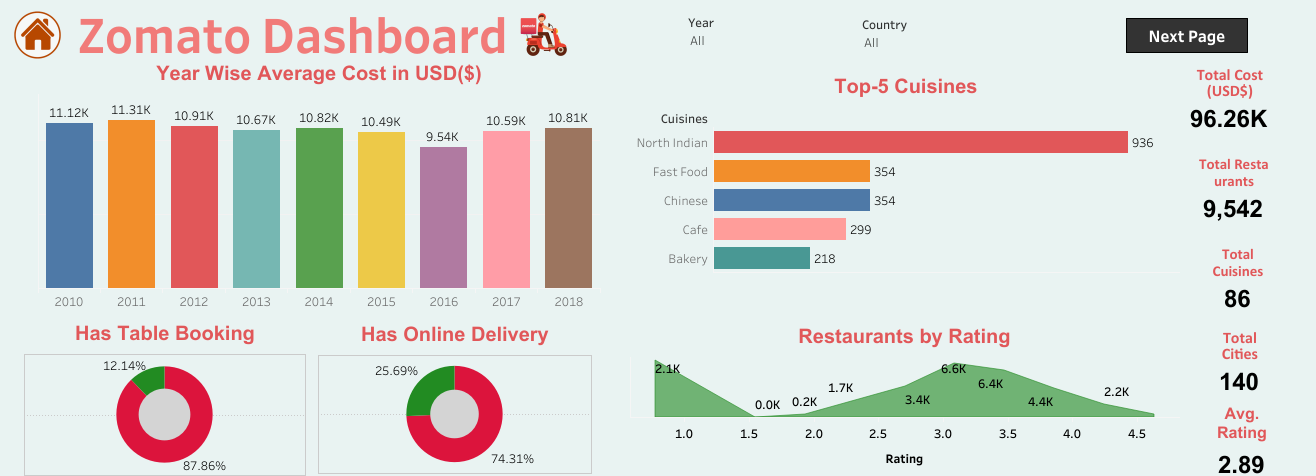

What the dashboard file says about the page in this screenshot:
{"tool":"tableau","page":{"name":"Page-1","canvas":[1000,1000],"units":"permille","ordinal":0},"visuals":[{"type":"image","param":"Image/z1-1030x515.png","box":[392.6,18.9,54.7,104.8]},{"type":"text","box":[56.9,23.1,385.8,92.2]},{"type":"filter","title":"Top-5 Cuisines","param":"[federated.0cjsnxm09vux1e0zomzkz04igkv3].[yr:Date (Main.csv):ok]","box":[522.3,25.2,104.1,111.1]},{"type":"filter","title":"Top-5 Cuisines","param":"[federated.0cjsnxm09vux1e0zomzkz04igkv3].[none:Countryname:nk]","box":[654.4,29.4,140,104.8]},{"type":"dashboard-object","box":[855,37.7,92.6,73.4]},{"type":"worksheet","title":"Avg. Cost","mark":"Bar","rows":["USD($)"],"cols":["Date (Main.csv)"],"box":[28.9,115.3,426.9,534.6]},{"type":"worksheet","title":"Total Cost","mark":"Automatic","box":[895.9,121.6,102.4,171.9]},{"type":"worksheet","title":"Top-5 Cuisines","mark":"Automatic","rows":["Cuisines"],"cols":["RestaurantID"],"box":[480.3,142.6,414.7,501.1]},{"type":"worksheet","title":"Total Restaurants","mark":"Automatic","box":[906.4,310.3,97.1,171.9]},{"type":"worksheet","title":"Total Cuisines","mark":"Automatic","box":[916.9,498.9,67.4,167.7]},{"type":"worksheet","title":"Has Table Booking","mark":"Pie","rows":["Calculation_2030067962353348678","Calculation_2030067962353348678"],"box":[18.4,660.4,214.3,337.5]},{"type":"worksheet","title":"Has Online Delivery","mark":"Pie","rows":["Calculation_2030067962353348678","Calculation_2030067962353348678"],"box":[241.5,662.5,208.2,331.2]},{"type":"worksheet","title":"Restaurants by Rating","mark":"Area","rows":["Rating"],"cols":["Rating (bin)"],"box":[478.6,666.7,416.4,327]},{"type":"worksheet","title":"Total Cities","mark":"Automatic","box":[918.6,673,77.9,176.1]}]}

Visuals, with their boxes on the dashboard's canvas, which has no fixed pixel size, in thousandths of its width and height (x1, y1, x2, y2). These are canvas units, not pixel positions in the 1316x476 screenshot, which may show the page scaled, cropped or inside an application window:
image: Rect(393, 19, 447, 124)
text: Rect(57, 23, 443, 115)
"Top-5 Cuisines" filter: Rect(522, 25, 626, 136)
"Top-5 Cuisines" filter: Rect(654, 29, 794, 134)
dashboard-object: Rect(855, 38, 948, 111)
"Avg. Cost" worksheet (Bar marks): Rect(29, 115, 456, 650)
"Total Cost" worksheet: Rect(896, 122, 998, 294)
"Top-5 Cuisines" worksheet: Rect(480, 143, 895, 644)
"Total Restaurants" worksheet: Rect(906, 310, 1004, 482)
"Total Cuisines" worksheet: Rect(917, 499, 984, 667)
"Has Table Booking" worksheet (Pie marks): Rect(18, 660, 233, 998)
"Has Online Delivery" worksheet (Pie marks): Rect(242, 662, 450, 994)
"Restaurants by Rating" worksheet (Area marks): Rect(479, 667, 895, 994)
"Total Cities" worksheet: Rect(919, 673, 996, 849)
